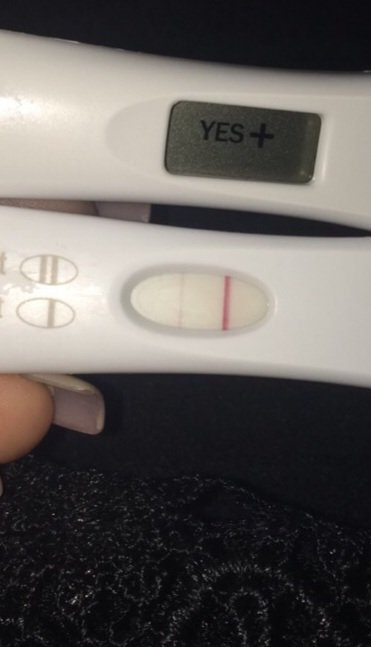positive: (132, 257, 271, 344)
